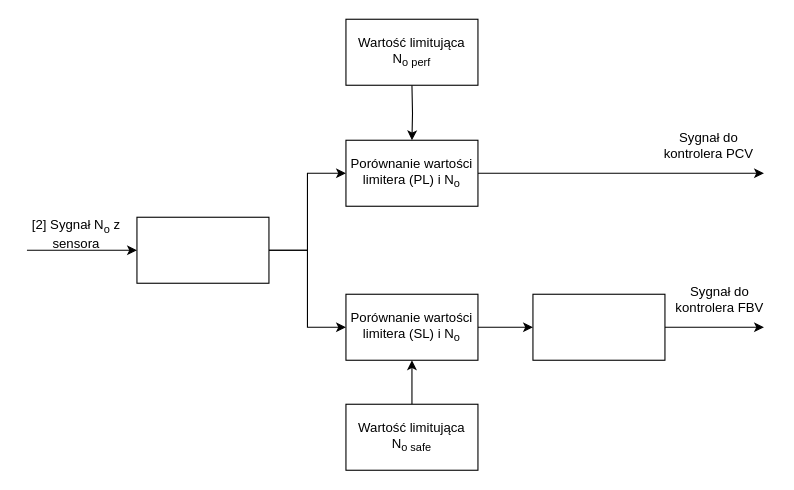
Image size: 794x490. Some labels were removed from this diagram. The centre of each missing label's shape, as x and y in pixels:
"Jeżeli: sygnał został przekroczony 10 razy" goes at (x=598, y=326).
"uśrednienie wartości N o" goes at (x=202, y=249).
